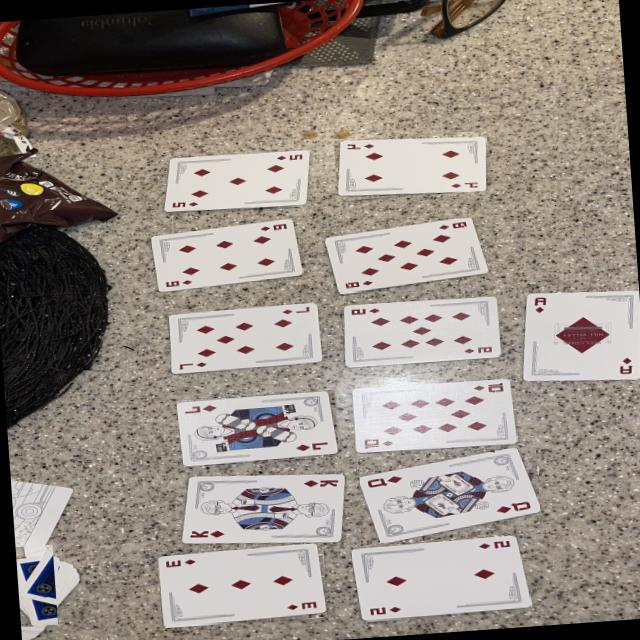10 of diamonds: (352, 379, 517, 453)
2 of diamonds: (352, 536, 530, 621)
3 of diamonds: (159, 544, 326, 627)
4 of diamonds: (338, 137, 489, 196)
5 of diamonds: (163, 151, 309, 213)
6 of diamonds: (151, 219, 303, 292)
7 of diamonds: (168, 303, 320, 374)
8 of diamonds: (326, 218, 488, 293)
9 of diamonds: (343, 296, 501, 366)
Ace of diamonds: (524, 290, 640, 381)
Jack of diamonds: (177, 391, 338, 467)
King of diamonds: (182, 474, 345, 543)
Queen of diamonds: (360, 448, 540, 543)
card back: (18, 544, 56, 605), (19, 599, 57, 626), (32, 556, 60, 578)
